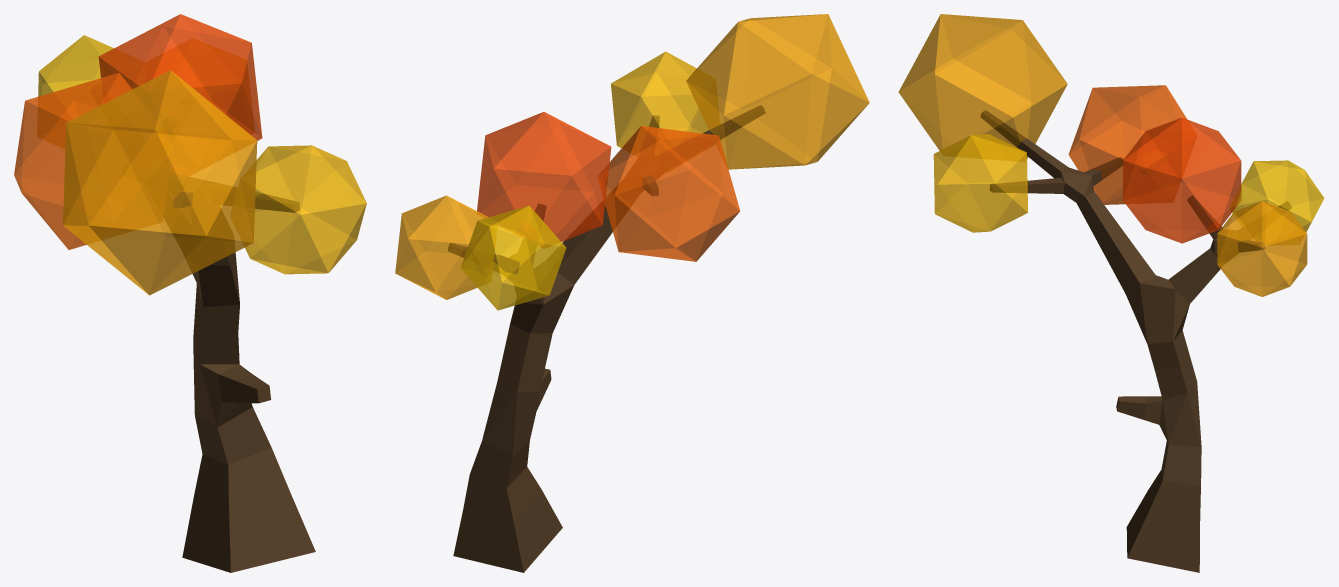
Rendered from tree1.glb.
3 views of the same model, side by side, from view 1: azimuth 30°, elevation 25°; view 2: azimuth 150°, elevation 25°; view 3: azimuth 270°, elevation 25° (orthographic). The views are drawn at different scales.
Visible parts, largest first — view 1: Icosphere.003, Cube, Icosphere.004, Icosphere.002, Icosphere.005, Icosphere.001; view 2: Icosphere.003, Cube, Icosphere.005, Icosphere.002, Icosphere.001, Icosphere, Icosphere.004; view 3: Cube, Icosphere.003, Icosphere.002, Icosphere.004, Icosphere.005, Icosphere, Icosphere.001.
Part boxes in pixels (x1,y1,x2,y2): Icosphere.003: (63, 70, 257, 295); Cube: (173, 192, 315, 572); Icosphere.004: (245, 145, 366, 274); Icosphere.002: (98, 14, 262, 140); Icosphere.005: (14, 73, 132, 249); Icosphere.001: (38, 35, 113, 96); Icosphere.003: (686, 14, 869, 169); Cube: (448, 105, 765, 572); Icosphere.005: (597, 126, 739, 261); Icosphere.002: (477, 112, 611, 241); Icosphere.001: (460, 205, 566, 310); Icosphere: (395, 195, 491, 299); Icosphere.004: (611, 51, 708, 148); Cube: (980, 110, 1291, 572); Icosphere.003: (898, 14, 1067, 158); Icosphere.002: (1123, 117, 1241, 243); Icosphere.004: (933, 134, 1027, 232); Icosphere.005: (1068, 85, 1187, 204); Icosphere: (1217, 201, 1307, 296); Icosphere.001: (1229, 160, 1324, 245).
Bounding box in the file's own units: 5.6 × 9 × 7.53.
